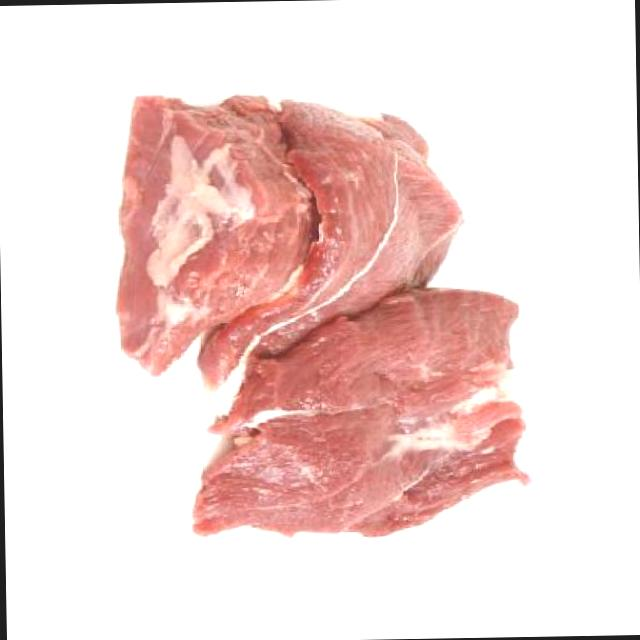beef: (110, 86, 470, 396), (188, 283, 532, 559)
